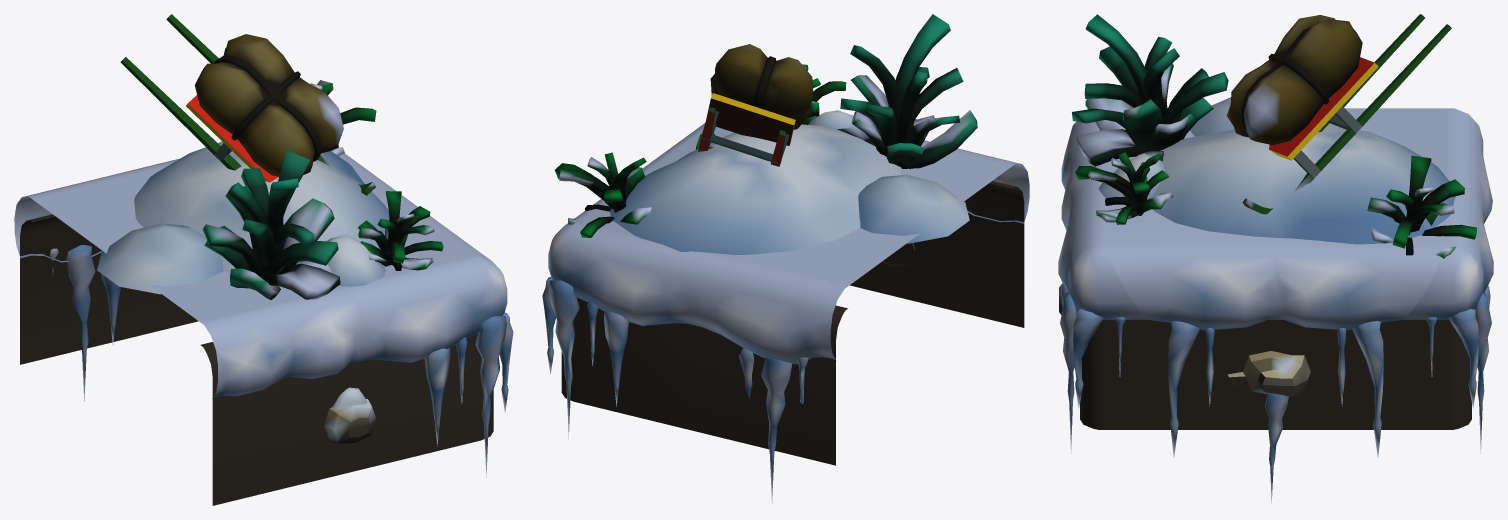
Rendered from Island_03.fbx.
3 views of the same model, side by side, from view 1: azimuth 30°, elevation 25°; view 2: azimuth 150°, elevation 25°; view 3: azimuth 270°, elevation 25° (orthographic). The views are drawn at different scales.
Visible parts, largest first — view 1: Island_03; view 2: Island_03; view 3: Island_03.
Part boxes in pixels (x1=…): Island_03: x1=14, y1=14, x2=513, y2=505; Island_03: x1=542, y1=14, x2=1029, y2=503; Island_03: x1=1058, y1=14, x2=1493, y2=503.
Size of the model in its own units: 4674 by 5337 by 5107.
